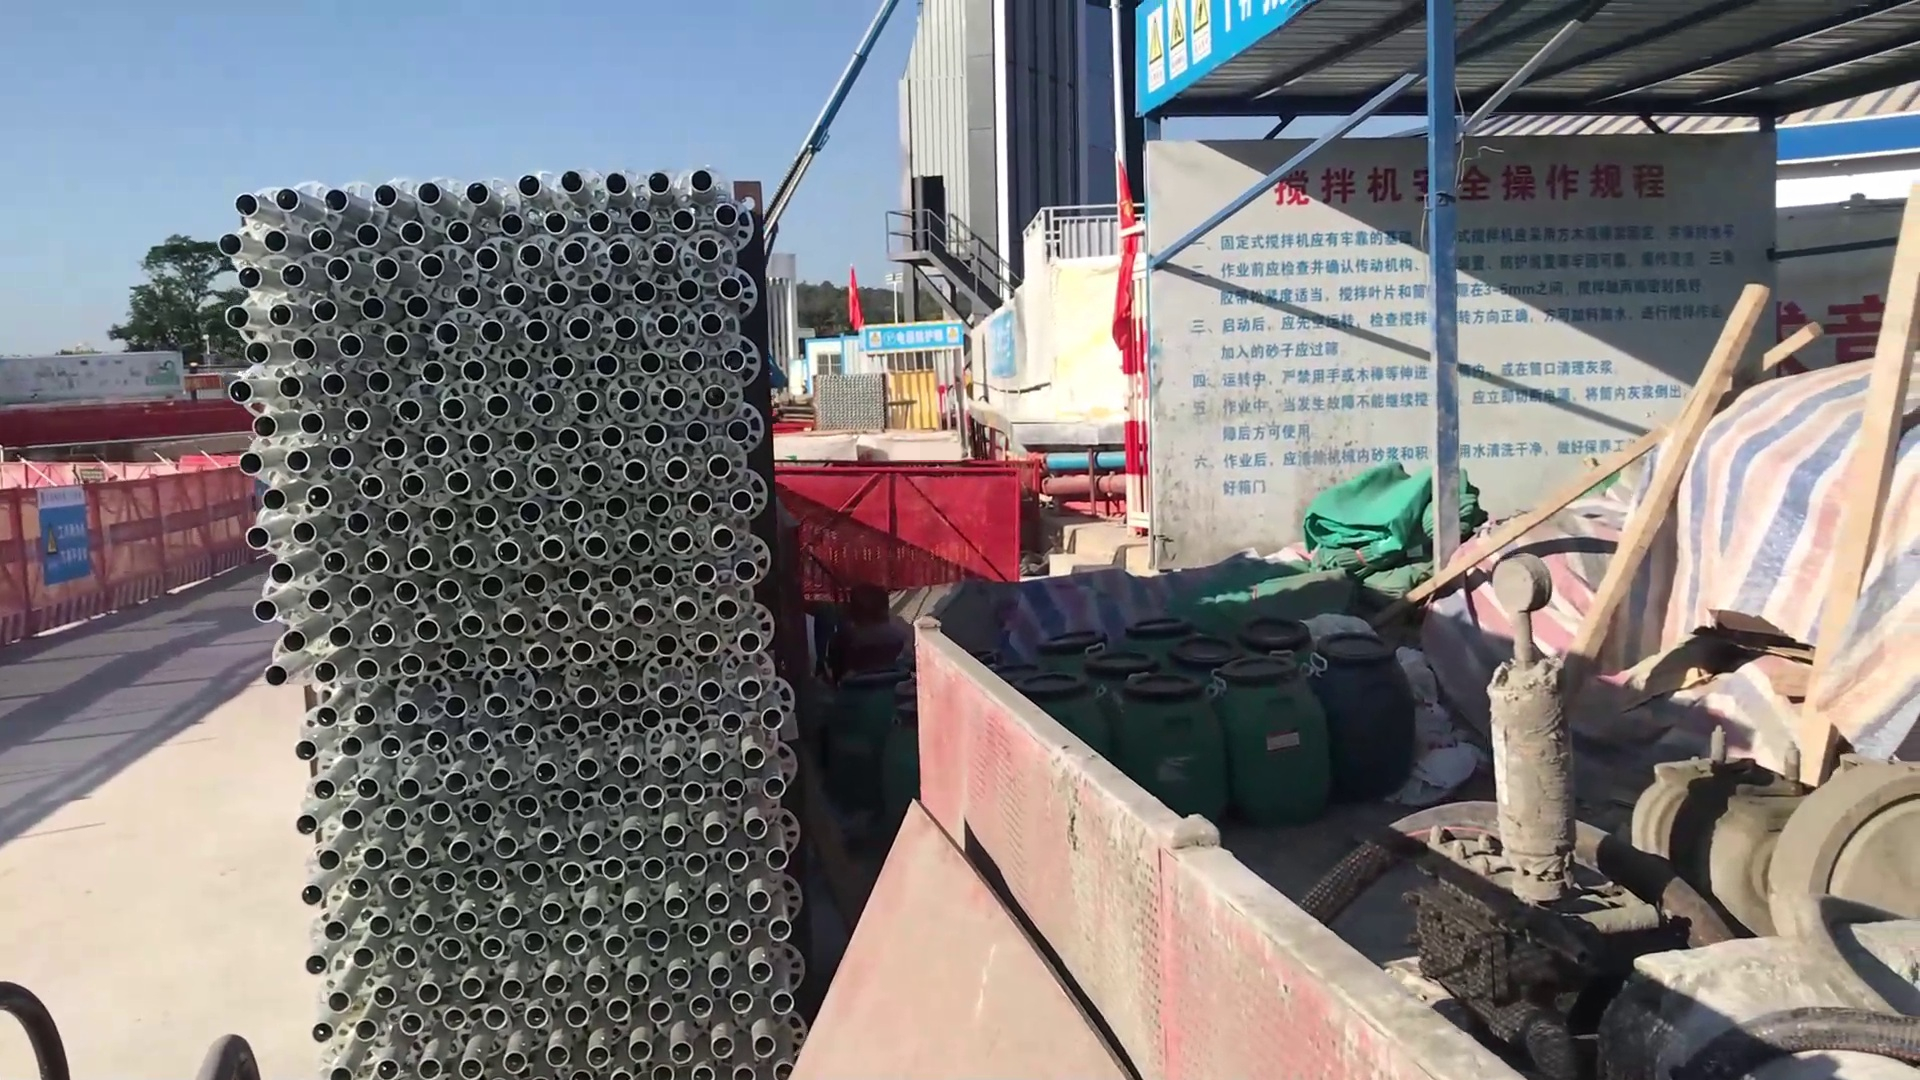fence: (919, 616, 1511, 1080), (1, 448, 243, 647), (771, 454, 1029, 583)
scaffold: (225, 164, 794, 1080)
slogan: (1125, 3, 1220, 84), (40, 512, 88, 582), (866, 324, 880, 349), (945, 323, 959, 344)
